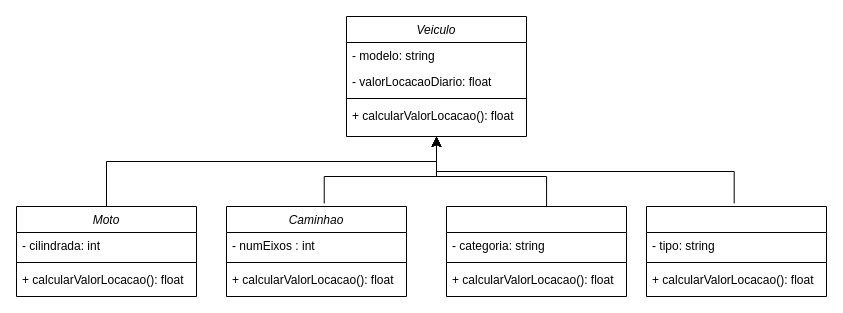
Some shapes in this 843 by 313 pixel diagram are drawn without their labels. Each missing label, with the box of its shape:
CarroDePasseio: (446, 206, 626, 296)
Utilitario: (646, 206, 826, 296)
